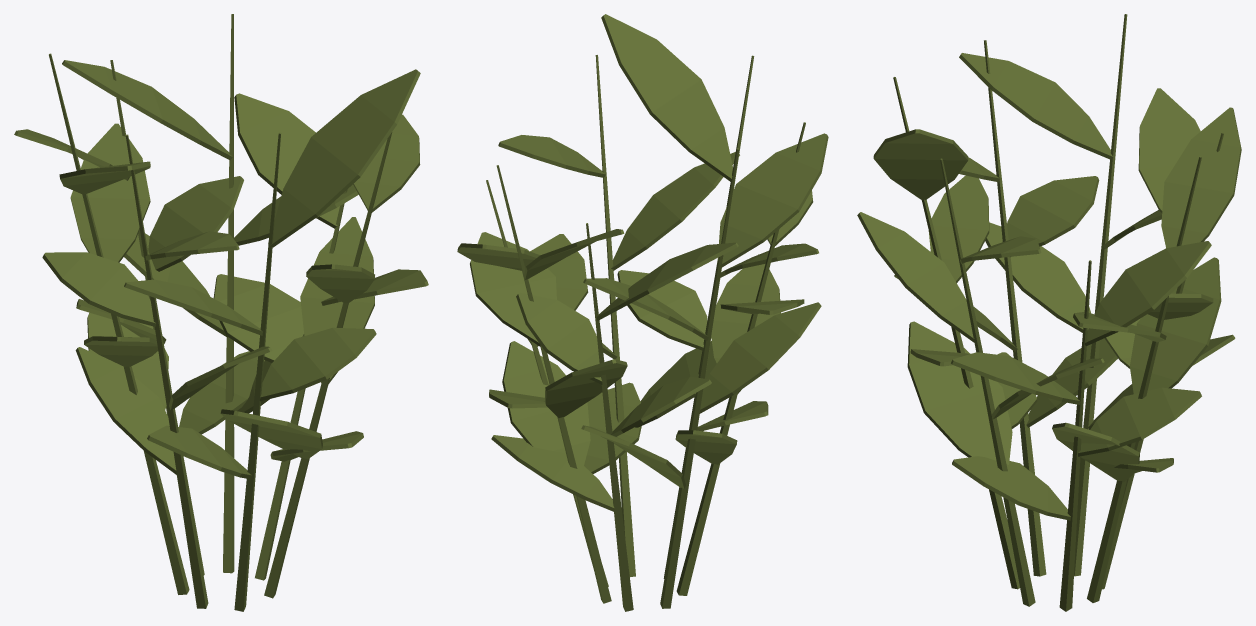
Rendered from plant_013b_broad_pondweed.glb.
3 views of the same model, side by side, from view 1: azimuth 30°, elevation 25°; view 2: azimuth 150°, elevation 25°; view 3: azimuth 270°, elevation 25° (orthographic). The views are drawn at different scales.
Visible parts, largest first — view 1: plant_013b_broad_pondweed__broad_leaves, plant_013b_broad_pondweed__stems; view 2: plant_013b_broad_pondweed__broad_leaves, plant_013b_broad_pondweed__stems; view 3: plant_013b_broad_pondweed__broad_leaves, plant_013b_broad_pondweed__stems.
Boxes of the visible parts, x1,y1,x2,y2 form: plant_013b_broad_pondweed__broad_leaves: (14,60,428,479); plant_013b_broad_pondweed__stems: (49,14,392,611); plant_013b_broad_pondweed__broad_leaves: (457,14,828,511); plant_013b_broad_pondweed__stems: (486,55,805,611); plant_013b_broad_pondweed__broad_leaves: (857,53,1241,520); plant_013b_broad_pondweed__stems: (893,14,1223,611).
Size of the model in its own units: 1.04 by 1.62 by 1.09.
